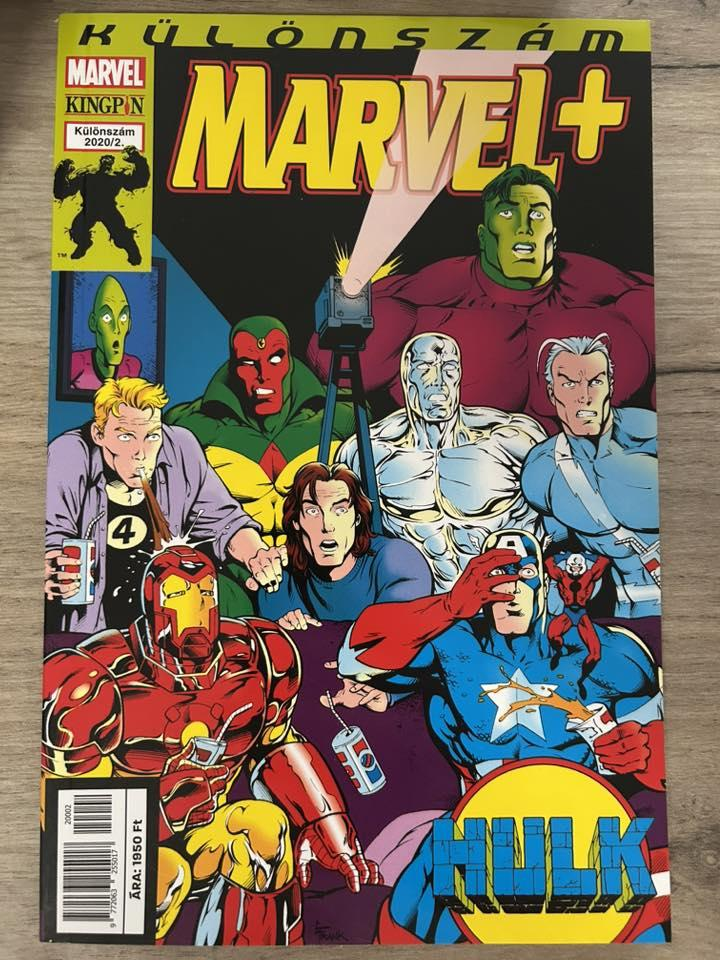comic: (42, 13, 668, 945)
